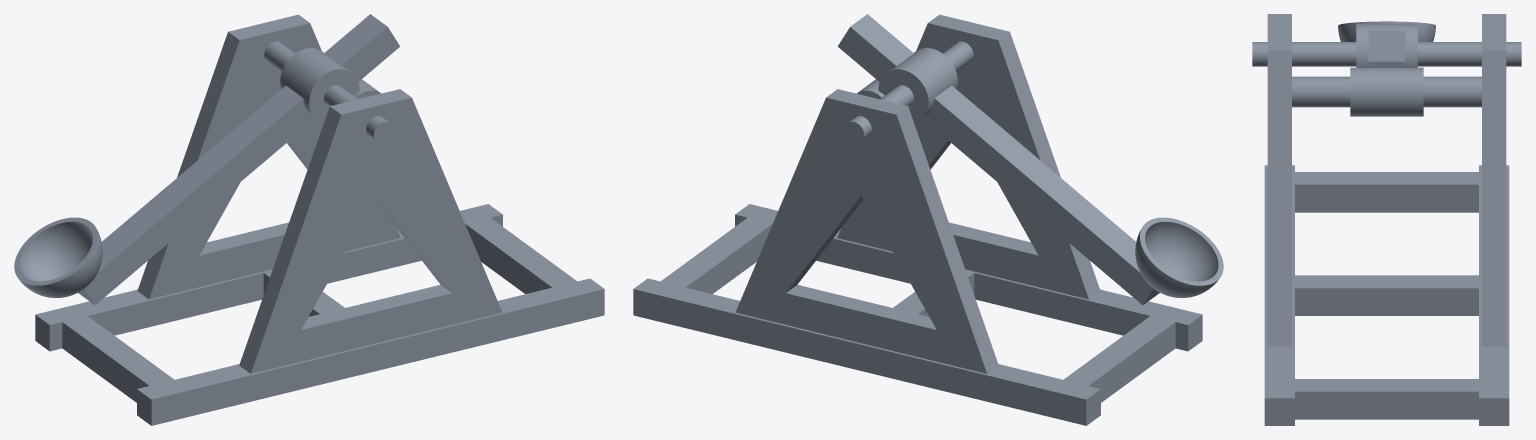
File: step-5.glb
3 renders of one model, left to right at view 1: azimuth 30°, elevation 25°; view 2: azimuth 150°, elevation 25°; view 3: azimuth 270°, elevation 25°, orthographic. The views are drawn at different scales.
Parts seen in each view (by area): view 1: face_34d923c5cc0273aa6e75, face_c6c4061f282d0e0150db, face_d85b668a0006ba6affbe, face_e8b85afa708fb4fee940, face_d169b7d3875214d54722, face_13b3d2e129ec6e483a8b, face_b6fab3d4a9dbbcaf1519, face_fb8887bba764df91bad6, face_e94c620bed071c971e52, face_3c0834110e3bc344f8e5, face_3e9cd110ecaf1841d03a, face_246edf2abe85ad273bca (+12 smaller); view 2: face_ef5056151f815182bda0, face_7b157cf39619654b872c, face_80b5e0dae24f9436188f, face_e8b85afa708fb4fee940, face_4eec5b49c1f6f86e5da5, face_13b3d2e129ec6e483a8b, face_bc4d6481ef769fb29cba, face_3c0834110e3bc344f8e5, face_e94c620bed071c971e52, face_fb8887bba764df91bad6, face_bf1306e5727f1e8a53bb, face_246edf2abe85ad273bca (+12 smaller); view 3: face_e8b85afa708fb4fee940, face_5c6a311c84a0fef03e59, face_7a4d995620524e4ab61b, face_eaa270c082d40c3f3501, face_14de0b3180eca4220d2a, face_f7f6948fa4251880c2cf, face_be33e1bf23d48bf20ae8, face_202713108f87a2026aac, face_faa1c299b40df3c7acfd, face_fde76a659d77633b7788, face_24cc83ecb742e0211476, face_1927544f3049aa16dba8 (+5 smaller).
Part boxes in pixels (x1,y1,x2,y2): face_34d923c5cc0273aa6e75: (251,97,502,373); face_c6c4061f282d0e0150db: (149,23,400,299); face_d85b668a0006ba6affbe: (151,289,604,425); face_e8b85afa708fb4fee940: (35,204,603,399); face_d169b7d3875214d54722: (84,98,315,304); face_13b3d2e129ec6e483a8b: (98,85,303,272); face_b6fab3d4a9dbbcaf1519: (88,273,263,335); face_fb8887bba764df91bad6: (239,106,340,373); face_e94c620bed071c971e52: (19,221,92,281); face_3c0834110e3bc344f8e5: (137,32,239,298); face_3e9cd110ecaf1841d03a: (327,238,421,283); face_246edf2abe85ad273bca: (62,322,148,402); face_ef5056151f815182bda0: (735,97,986,373); face_7b157cf39619654b872c: (837,23,1088,299); face_80b5e0dae24f9436188f: (633,289,1086,425); face_e8b85afa708fb4fee940: (634,204,1202,399); face_4eec5b49c1f6f86e5da5: (922,98,1153,304); face_13b3d2e129ec6e483a8b: (934,85,1139,272); face_bc4d6481ef769fb29cba: (974,273,1149,335); face_3c0834110e3bc344f8e5: (897,106,998,373); face_e94c620bed071c971e52: (1145,221,1218,281); face_fb8887bba764df91bad6: (998,32,1100,298); face_bf1306e5727f1e8a53bb: (816,238,910,283); face_246edf2abe85ad273bca: (1089,322,1175,402); face_e8b85afa708fb4fee940: (1264,165,1509,398); face_5c6a311c84a0fef03e59: (1267,50,1291,346); face_7a4d995620524e4ab61b: (1482,50,1506,346); face_eaa270c082d40c3f3501: (1295,391,1478,419); face_14de0b3180eca4220d2a: (1295,184,1478,212); face_f7f6948fa4251880c2cf: (1295,288,1478,315); face_be33e1bf23d48bf20ae8: (1252,42,1521,66); face_202713108f87a2026aac: (1350,67,1423,116); face_faa1c299b40df3c7acfd: (1292,76,1350,107); face_fde76a659d77633b7788: (1423,76,1481,107); face_24cc83ecb742e0211476: (1356,23,1417,67); face_1927544f3049aa16dba8: (1368,31,1405,61).
Size of the model in its own units: 0.2086 by 0.1113 by 0.088.
